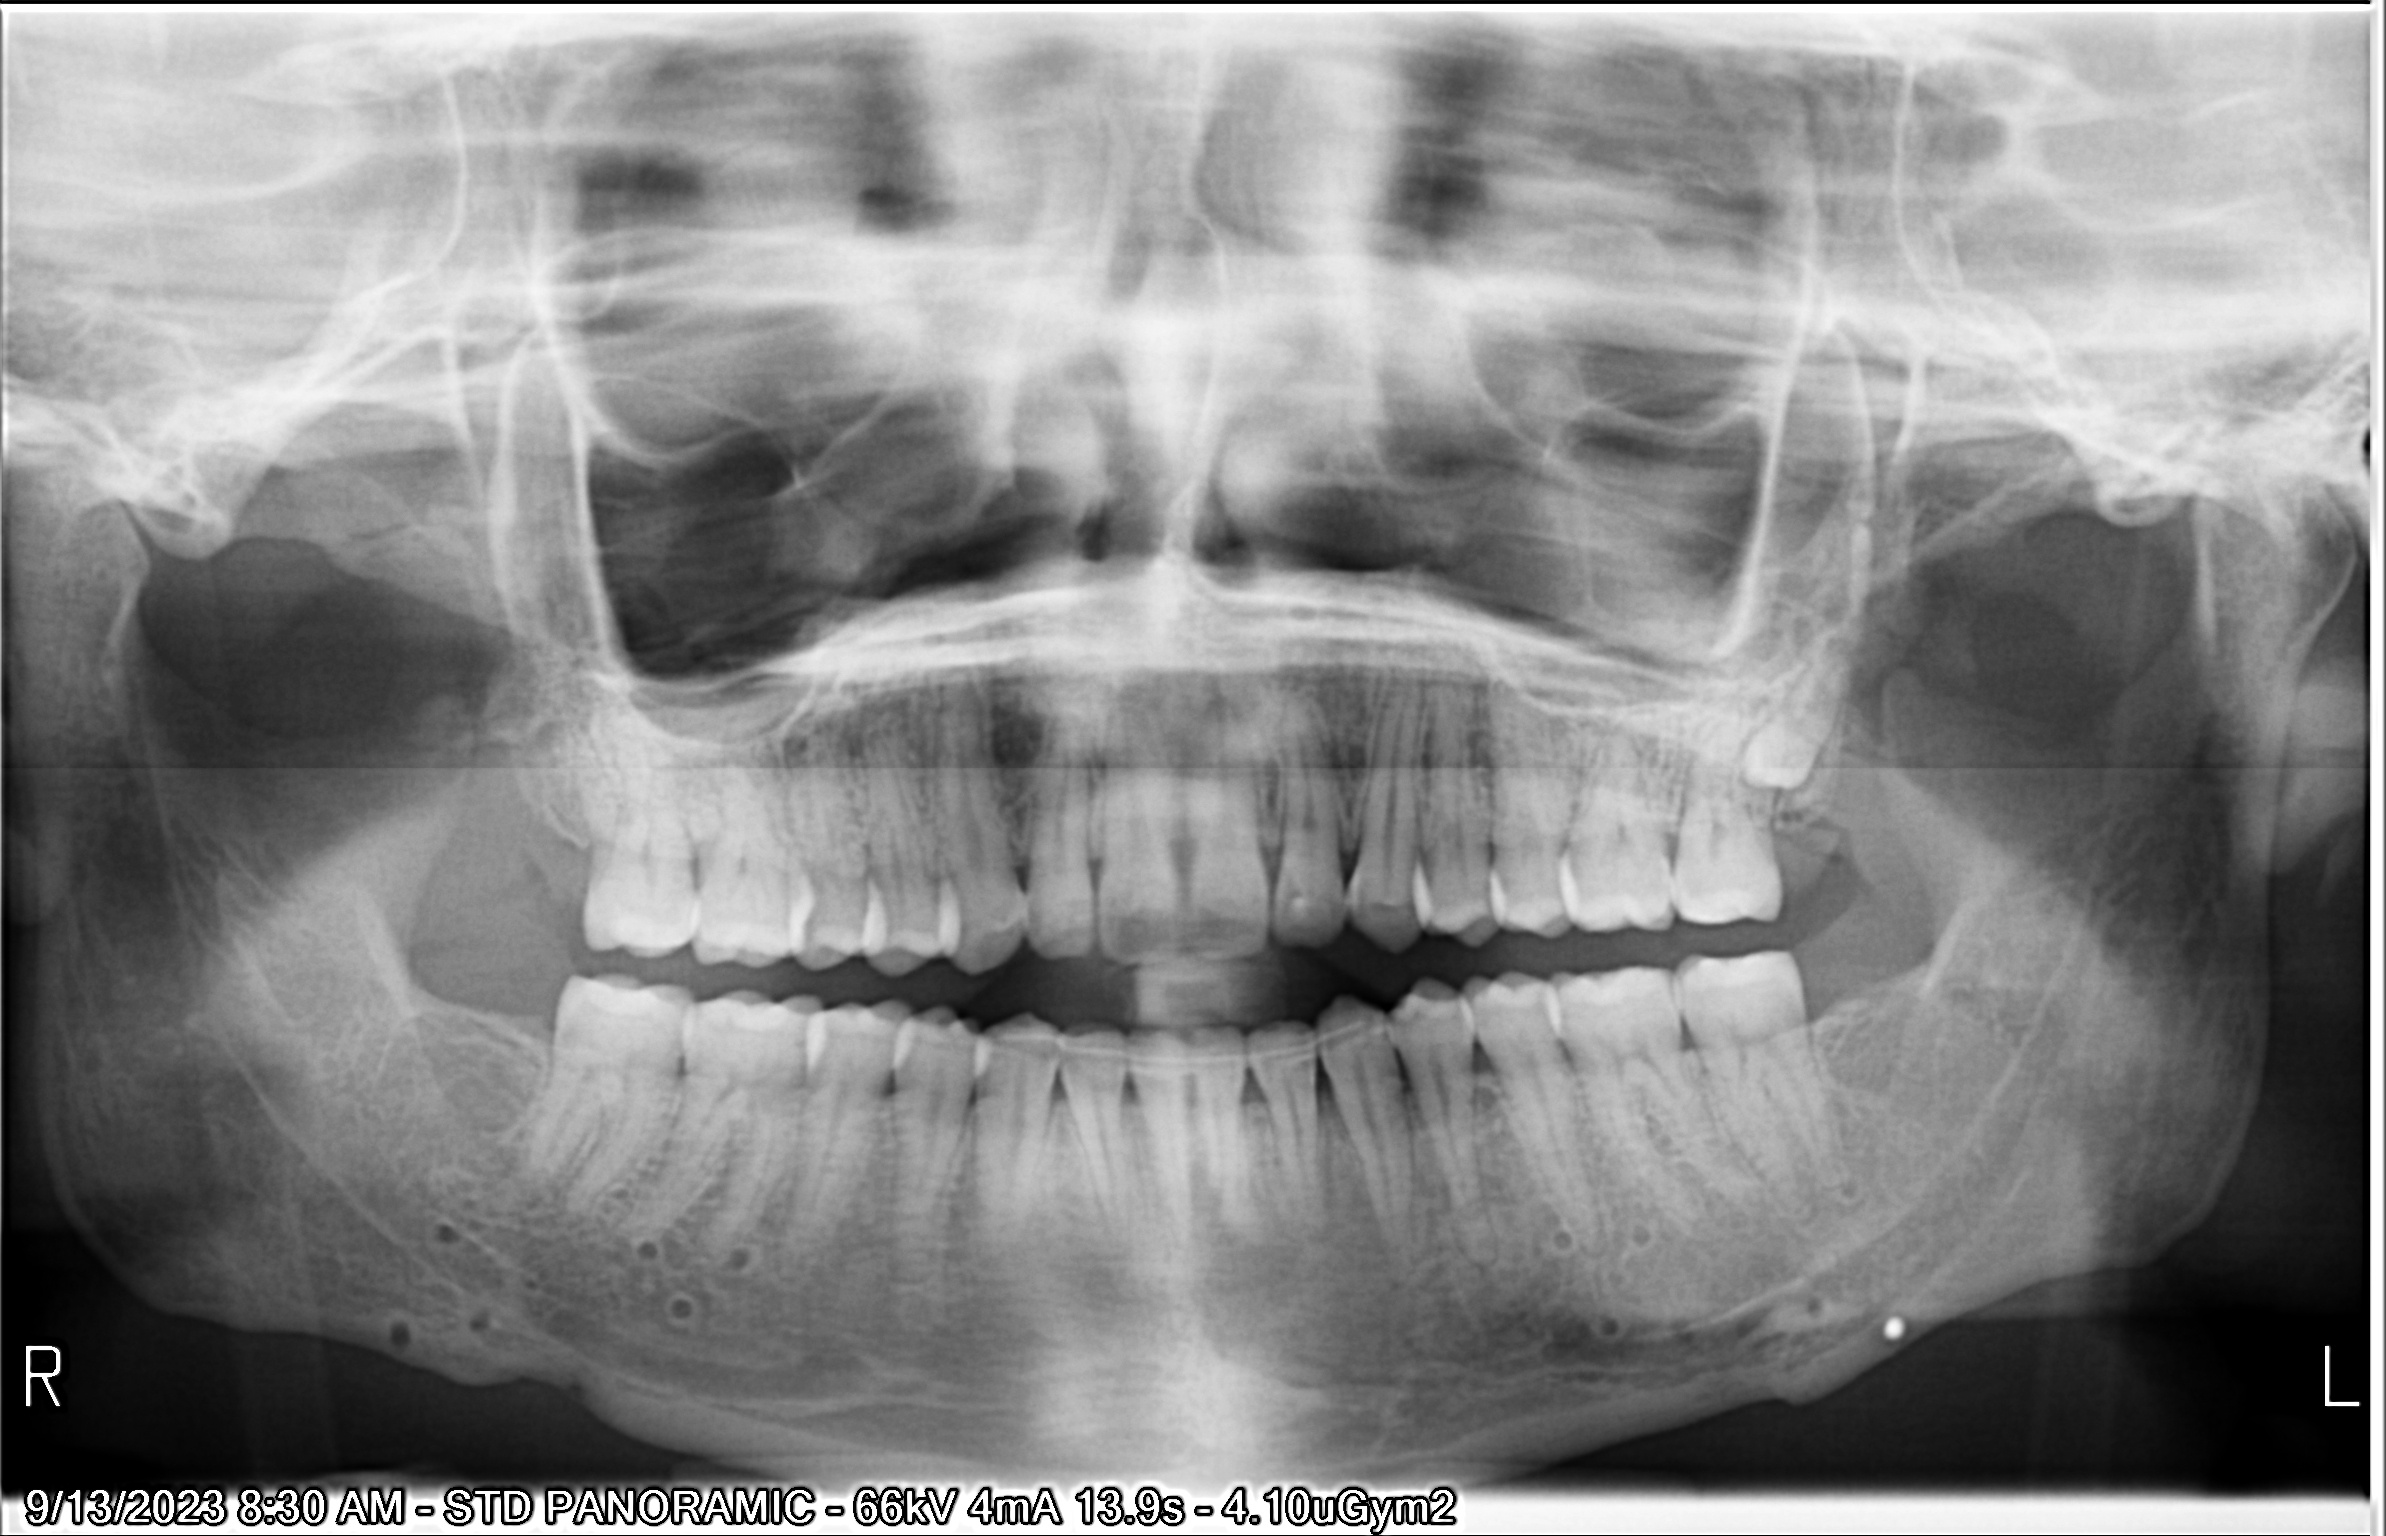IMT: (1716, 638, 1885, 798)
ORD: (977, 1007, 1396, 1101)
